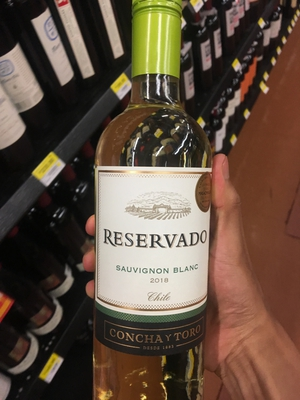reservado sauvignon blanc: (91, 19, 219, 400)
